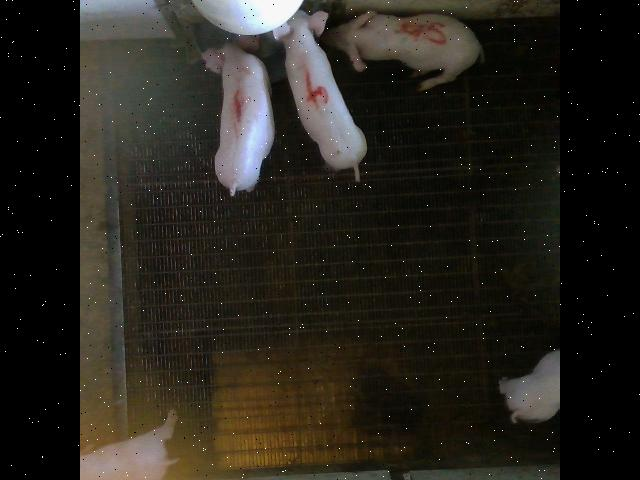pig-1: (202, 35, 275, 195)
pig-4: (274, 10, 366, 179)
pig-5: (322, 10, 484, 90)
